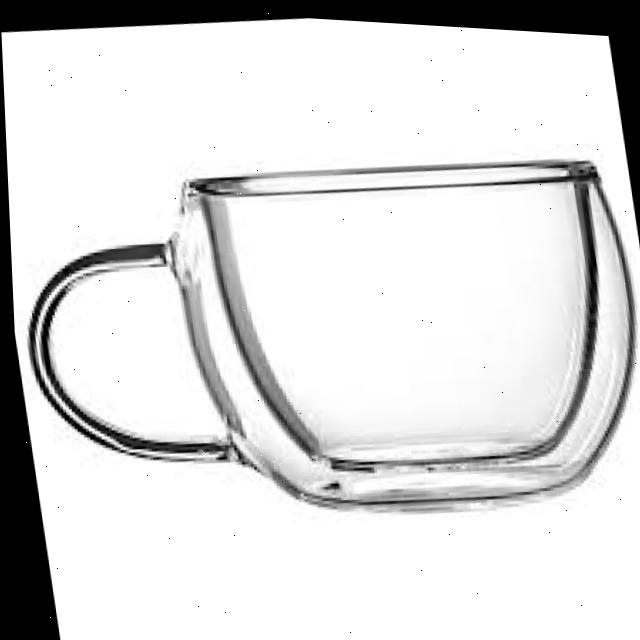Dry: (4, 117, 640, 558)
